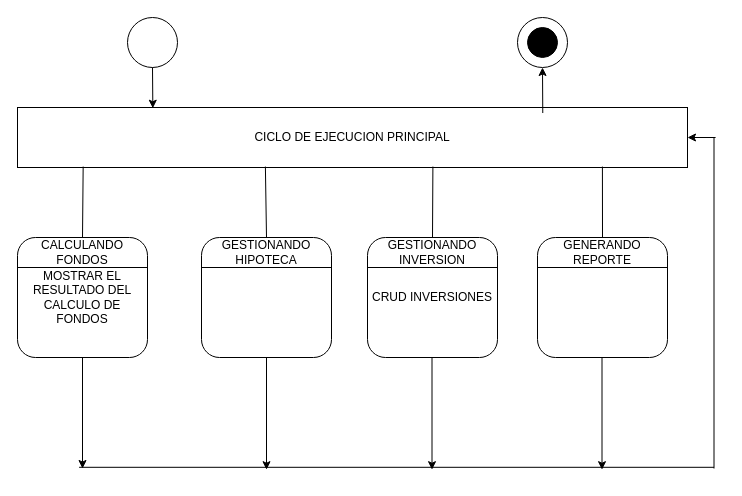
Some shapes in this 742 by 496 pixel diagram are drawn without their labels. Each missing label, with the box of its shape:
CRUD HIPOTECAS: (200, 236, 332, 358)
GENERAR E IMPRIMIR REPORTE: (536, 236, 668, 358)
